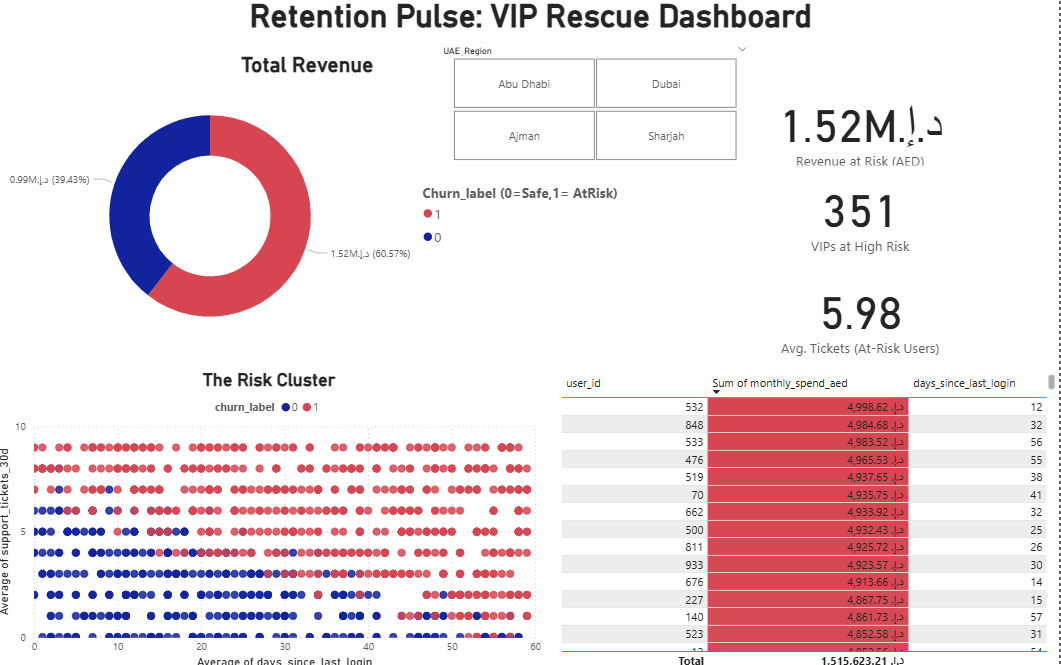

What the dashboard file says about the page in this screenshot:
{"tool":"powerbi","page":{"name":"Page 1","canvas":[1280,815],"ordinal":0},"visuals":[{"type":"donutChart","title":"Total Revenue","fields":{"Y":["Sum(user_pulse_data.monthly_spend_aed)"],"Category":["user_pulse_data.churn_label"]},"box":[0,72,754.4,361.9],"z":0},{"type":"scatterChart","title":"The Risk Cluster","fields":{"X":["Avg(user_pulse_data.days_since_last_login)"],"Y":["Avg(user_pulse_data.support_tickets_30d)"],"Series":["user_pulse_data.churn_label"],"Category":["user_pulse_data.user_id"]},"box":[0,451.9,662.6,363.7],"z":1000},{"type":"card","fields":{"Values":["Sum(user_pulse_data.monthly_spend_aed)"]},"box":[817.4,104.4,446.5,117],"z":2000},{"type":"card","fields":{"Values":["Count(user_pulse_data.user_id)"]},"box":[817.4,207.1,446.5,115.2],"z":3000},{"type":"card","fields":{"Values":["Avg(user_pulse_data.support_tickets_30d)"]},"box":[817.4,322.3,446.5,129.6],"z":4000},{"type":"tableEx","fields":{"Values":["user_pulse_data.user_id","Sum(user_pulse_data.monthly_spend_aed)","user_pulse_data.days_since_last_login","user_pulse_data.Next Best Action"]},"box":[677,451.9,603.2,363.7],"z":5000},{"type":"textbox","box":[172.8,0,945.3,55.8],"z":7000},{"type":"slicer","fields":{"Values":["user_pulse_data.uae_region"]},"box":[527.5,57.6,388.9,149.4],"z":7001}]}

Visuals, with their boxes in screenshot pixels (x1, y1, x2, y2), scaled from the page's 1280x815 canvas onto the 1061x665 screenshot:
"Total Revenue" donutChart: [x1=0, y1=59, x2=625, y2=354]
"The Risk Cluster" scatterChart: [x1=0, y1=369, x2=549, y2=664]
card - Sum(user_pulse_data.monthly_spend_aed): [x1=678, y1=85, x2=1048, y2=181]
card - Count(user_pulse_data.user_id): [x1=678, y1=169, x2=1048, y2=263]
card - Avg(user_pulse_data.support_tickets_30d): [x1=678, y1=263, x2=1048, y2=369]
tableEx - user_pulse_data.user_id x Sum(user_pulse_data.monthly_spend_aed): [x1=561, y1=369, x2=1060, y2=664]
textbox: [x1=143, y1=0, x2=927, y2=46]
slicer - user_pulse_data.uae_region: [x1=437, y1=47, x2=760, y2=169]
